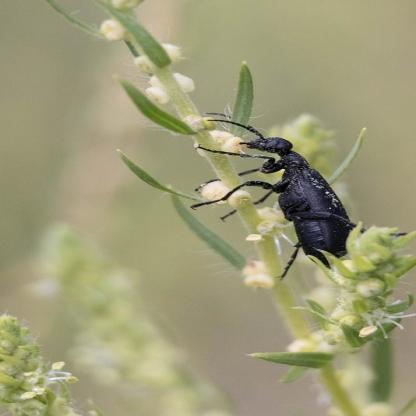beetle: (198, 109, 364, 267)
